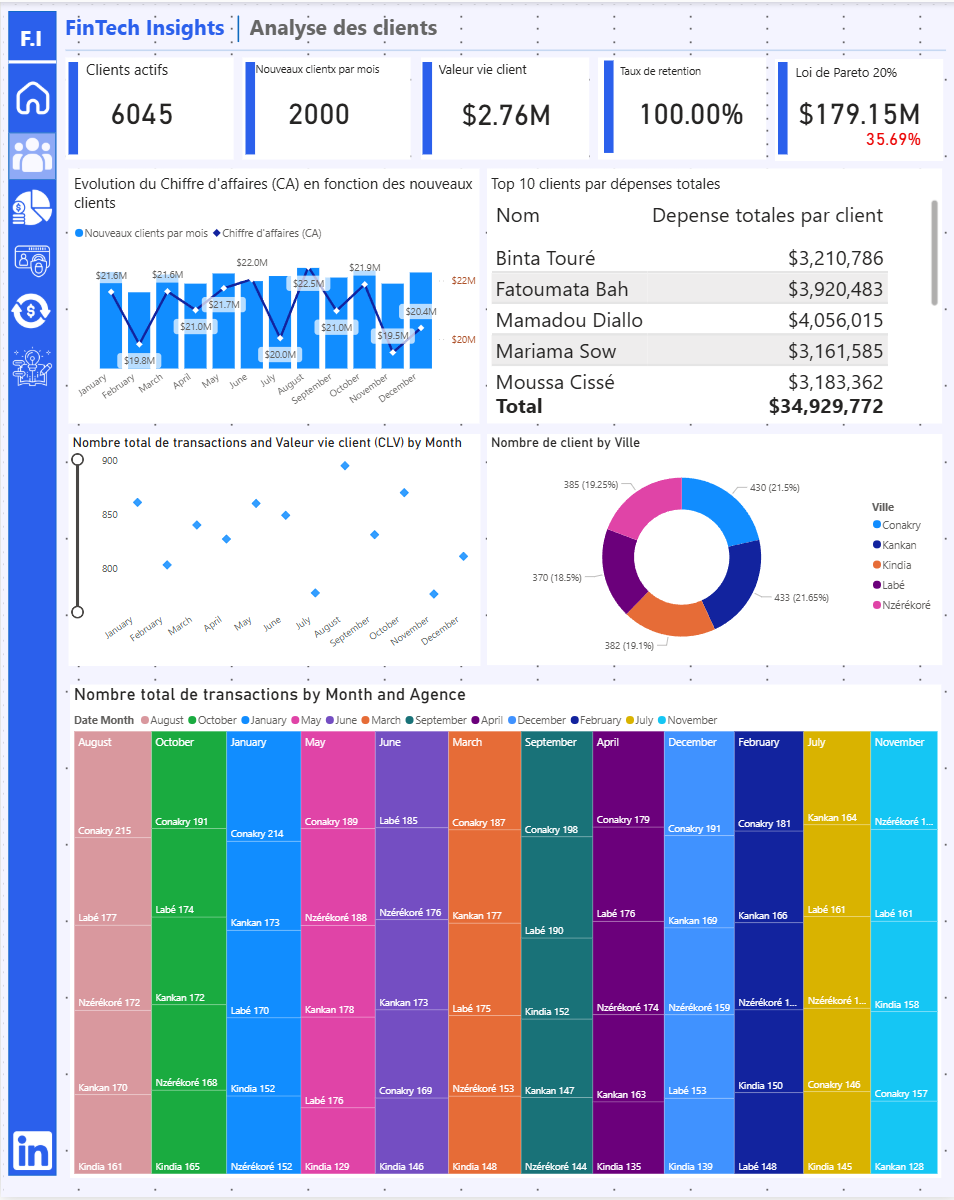

This screenshot's page, from the dashboard's own definition file:
{"tool":"powerbi","page":{"name":"Analyse des clients","canvas":[1200,1500],"ordinal":1},"visuals":[{"type":"group","id":"g1","title":"Header","box":[75.8,7,1110.4,58.3],"z":0},{"type":"shape","box":[9.1,11.9,60.2,1461.5],"z":0,"group":"g2"},{"type":"shape","box":[81.2,53.3,1105,12],"z":0,"group":"g1"},{"type":"textbox","box":[75.8,7,230,50],"z":1000,"group":"g1"},{"type":"shape","box":[81.1,70.1,211,128],"z":1000},{"type":"image","box":[9.1,1413.3,60.2,59.1],"z":1000,"group":"g2"},{"type":"shape","box":[292.5,17,12.2,33.3],"z":2000,"group":"g1"},{"type":"shape","box":[9.6,60.8,59.7,29.9],"z":2000,"group":"g2"},{"type":"shape","box":[85.1,74.9,12,116],"z":2000},{"type":"textbox","box":[307.5,7,248.5,46.9],"z":3000,"group":"g1"},{"type":"textbox","box":[101.3,66.5,124.5,40.1],"z":3000},{"type":"image","box":[9.6,162.5,59.7,59.7],"z":3000,"group":"g2"},{"type":"card","fields":{"Values":["KPI.Nombre total de clients actifs"]},"box":[128.7,110.8,97.1,51.7],"z":4000},{"type":"image","box":[9.6,229.3,59.7,59.7],"z":4000,"group":"g2"},{"type":"image","box":[9.6,295.4,59.7,59.7],"z":5000,"group":"g2"},{"type":"image","box":[9.6,428.8,59.7,59.7],"z":6000,"group":"g2"},{"type":"shape","box":[303.8,70.5,211,128],"z":7000},{"type":"shape","box":[306.1,75.4,12,116],"z":8000},{"type":"shape","box":[8.7,163.5,59.6,59.6],"z":8000,"group":"g2"},{"type":"textbox","box":[314.4,69.6,173,33.8],"z":9000},{"type":"image","box":[8.6,90.6,60.8,59.7],"z":9000,"group":"g2"},{"type":"textbox","box":[18.2,21.3,50.1,48],"z":10000,"group":"g2"},{"type":"card","fields":{"Values":["KPI.Nouveaux clients par mois"]},"box":[349.7,111.3,97.1,51.7],"z":10000},{"type":"image","box":[7.5,358.4,59.7,59.7],"z":10500,"group":"g2"},{"type":"shape","box":[526.5,69.7,211,128],"z":13000},{"type":"shape","box":[529.2,74.8,12,116],"z":14000},{"type":"textbox","box":[543.3,68.6,158.2,33.8],"z":15000},{"type":"shape","box":[749.1,69.3,211,128],"z":18000},{"type":"shape","box":[756.5,74.3,12,116],"z":19000},{"type":"textbox","box":[772.2,70.7,124.5,34.8],"z":20000},{"type":"card","fields":{"Values":["KPI.Taux de rétention"]},"box":[792.3,111.8,145.6,51.7],"z":21000},{"type":"shape","box":[971.8,70.9,211,128],"z":24000},{"type":"shape","box":[975.8,75.9,12,116],"z":25000},{"type":"textbox","box":[991.6,70.7,155.1,32.7],"z":26000},{"type":"card","fields":{"Values":["KPI.Part de 20% de clients les plus dépensiers"]},"box":[987.4,111.8,177.2,51.7],"z":27000},{"type":"card","fields":{"Values":["KPI.% Pareto"]},"box":[1075,145.6,89.7,51.7],"z":30000},{"type":"card","fields":{"Values":["KPI.Valeur vie client (CLV)"]},"box":[562.1,105.6,141.9,65.1],"z":31000},{"type":"shape","box":[84.9,208,515.7,320],"z":32000},{"type":"shape","box":[609.2,208,571.1,320],"z":33000},{"type":"textbox","box":[86.4,208,514.1,68.3],"z":34000},{"type":"lineStackedColumnComboChart","fields":{"Category":["Calendrier.Date.Variation.Date Hierarchy.Month"],"Y":["KPI.Nouveaux clients par mois"],"Y2":["KPI.Chiffre d'affaires (CA)"]},"box":[86.2,269.5,514.5,258.5],"z":35000},{"type":"tableEx","fields":{"Values":["clients.Nom","KPI.Depense totales par client"]},"box":[609.2,242.5,571.1,285.5],"z":36000},{"type":"textbox","box":[609.2,208,318.8,44.3],"z":37000},{"type":"scatterChart","fields":{"X":["Calendrier.Date.Variation.Date Hierarchy.Month"],"Y":["KPI.Nombre total de transactions"],"Size":["KPI.Valeur vie client (CLV)"]},"box":[84.9,541.5,515.7,290.5],"z":38000},{"type":"treemap","fields":{"Group":["Calendrier.Date.Variation.Date Hierarchy.Month"],"Values":["KPI.Nombre total de transactions"],"Details":["agences.Agence"]},"box":[86.6,856.5,1093.6,619.3],"z":39000},{"type":"donutChart","fields":{"Series":["villes.Ville"],"Y":["KPI.Nombre de client"]},"box":[609,542,571,290],"z":40000},{"type":"group","id":"g2","title":"Navigation","box":[7.5,11.9,61.9,1461.5],"z":41000}]}

Visuals, with their boxes on the page's 1200x1500 design canvas (x1, y1, x2, y2). These are canvas units, not pixel positions in the 954x1200 screenshot, which may show the page scaled, cropped or inside an application window:
"Header" group: bbox=(76, 7, 1186, 65)
shape: bbox=(9, 12, 69, 1473)
shape: bbox=(81, 53, 1186, 65)
textbox: bbox=(76, 7, 306, 57)
shape: bbox=(81, 70, 292, 198)
image: bbox=(9, 1413, 69, 1472)
shape: bbox=(292, 17, 305, 50)
shape: bbox=(10, 61, 69, 91)
shape: bbox=(85, 75, 97, 191)
textbox: bbox=(308, 7, 556, 54)
textbox: bbox=(101, 66, 226, 107)
image: bbox=(10, 162, 69, 222)
card - KPI.Nombre total de clients actifs: bbox=(129, 111, 226, 162)
image: bbox=(10, 229, 69, 289)
image: bbox=(10, 295, 69, 355)
image: bbox=(10, 429, 69, 488)
shape: bbox=(304, 70, 515, 198)
shape: bbox=(306, 75, 318, 191)
shape: bbox=(9, 164, 68, 223)
textbox: bbox=(314, 70, 487, 103)
image: bbox=(9, 91, 69, 150)
textbox: bbox=(18, 21, 68, 69)
card - KPI.Nouveaux clients par mois: bbox=(350, 111, 447, 163)
image: bbox=(8, 358, 67, 418)
shape: bbox=(526, 70, 738, 198)
shape: bbox=(529, 75, 541, 191)
textbox: bbox=(543, 69, 702, 102)
shape: bbox=(749, 69, 960, 197)
shape: bbox=(756, 74, 768, 190)
textbox: bbox=(772, 71, 897, 106)
card - KPI.Taux de rétention: bbox=(792, 112, 938, 164)
shape: bbox=(972, 71, 1183, 199)
shape: bbox=(976, 76, 988, 192)
textbox: bbox=(992, 71, 1147, 103)
card - KPI.Part de 20% de clients les plus dépensiers: bbox=(987, 112, 1165, 164)
card - KPI.% Pareto: bbox=(1075, 146, 1165, 197)
card - KPI.Valeur vie client (CLV): bbox=(562, 106, 704, 171)
shape: bbox=(85, 208, 601, 528)
shape: bbox=(609, 208, 1180, 528)
textbox: bbox=(86, 208, 600, 276)
lineStackedColumnComboChart - Calendrier.Date.Variation.Date Hierarchy.Month x KPI.Nouveaux clients par mois: bbox=(86, 270, 601, 528)
tableEx - clients.Nom x KPI.Depense totales par client: bbox=(609, 242, 1180, 528)
textbox: bbox=(609, 208, 928, 252)
scatterChart - Calendrier.Date.Variation.Date Hierarchy.Month x KPI.Nombre total de transactions: bbox=(85, 542, 601, 832)
treemap - Calendrier.Date.Variation.Date Hierarchy.Month x KPI.Nombre total de transactions: bbox=(87, 856, 1180, 1476)
donutChart - villes.Ville x KPI.Nombre de client: bbox=(609, 542, 1180, 832)
"Navigation" group: bbox=(8, 12, 69, 1473)
